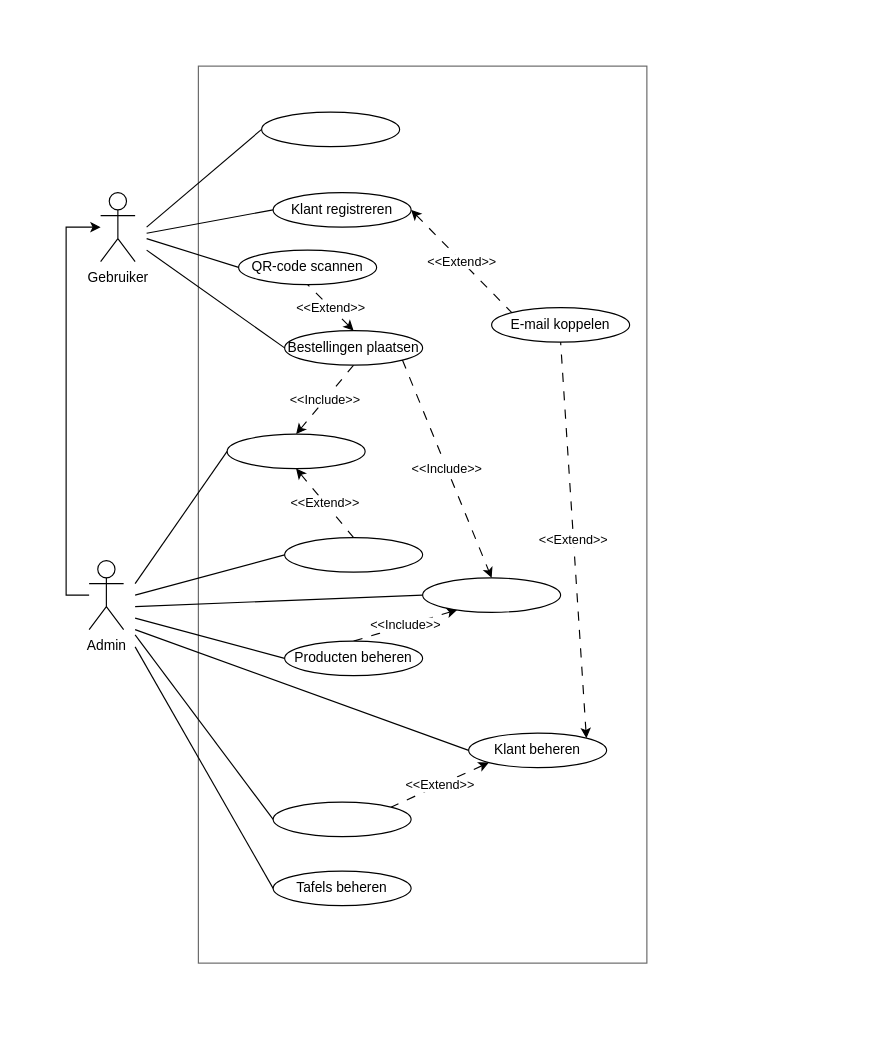
This 890x1051 diagram has some shape labels left out. The centre of each missing label's shape, as x and y in pixels:
"Account inloggen" goes at point 330,129.
"Bestellingen afrekenen" goes at point 353,554.
"Bestellingen beheren" goes at point 295,451.
"Groepen beheren" goes at point 341,819.
"Stock beheren" goes at point 491,594.
